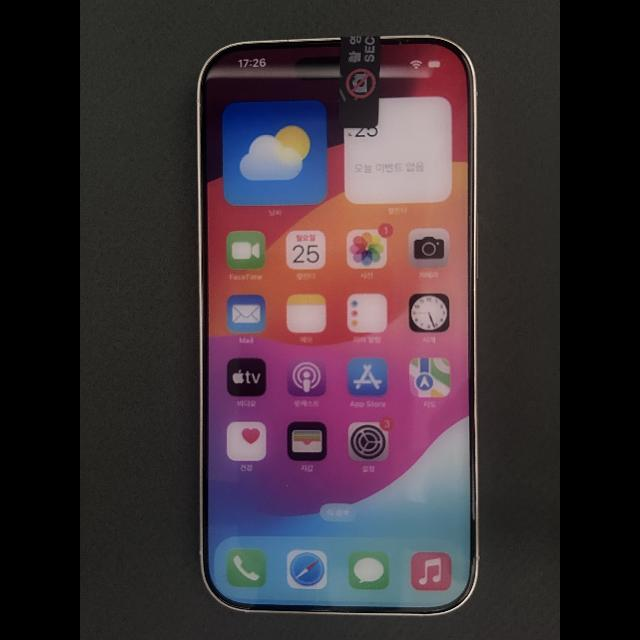phone: (196, 34, 479, 617)
sticker: (338, 35, 381, 129)
